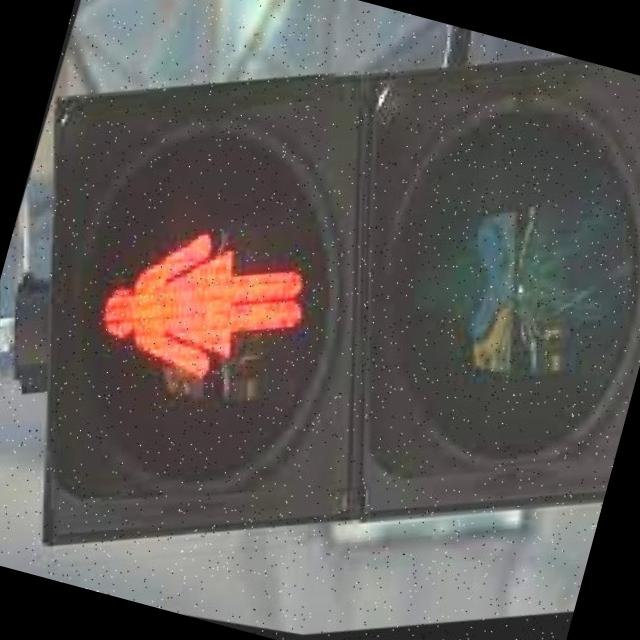red_light: (37, 136, 361, 474)
